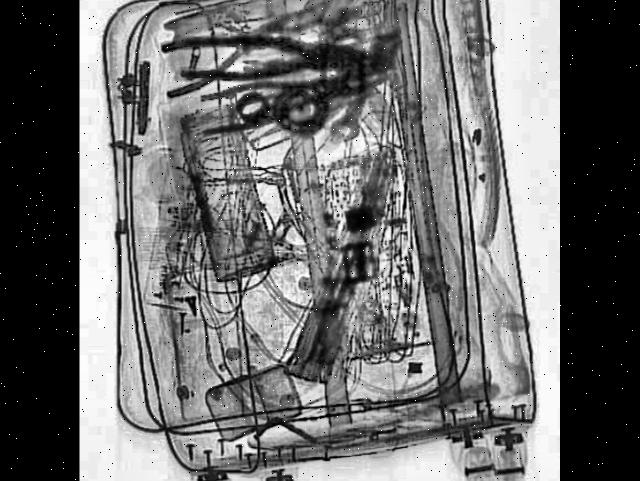Pliers: (158, 0, 327, 98), (160, 30, 342, 86)
Wrench: (326, 16, 405, 154)
